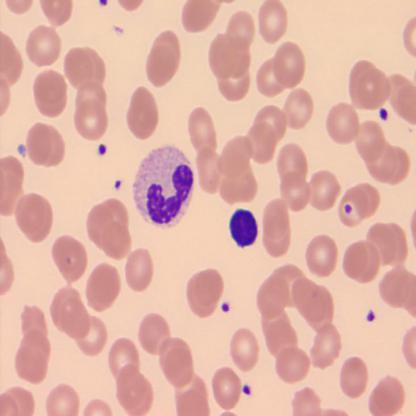Band Neutrophil: (130, 141, 197, 231)
